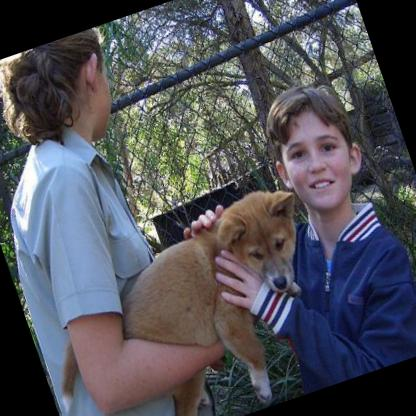dingo: (17, 177, 359, 416)
